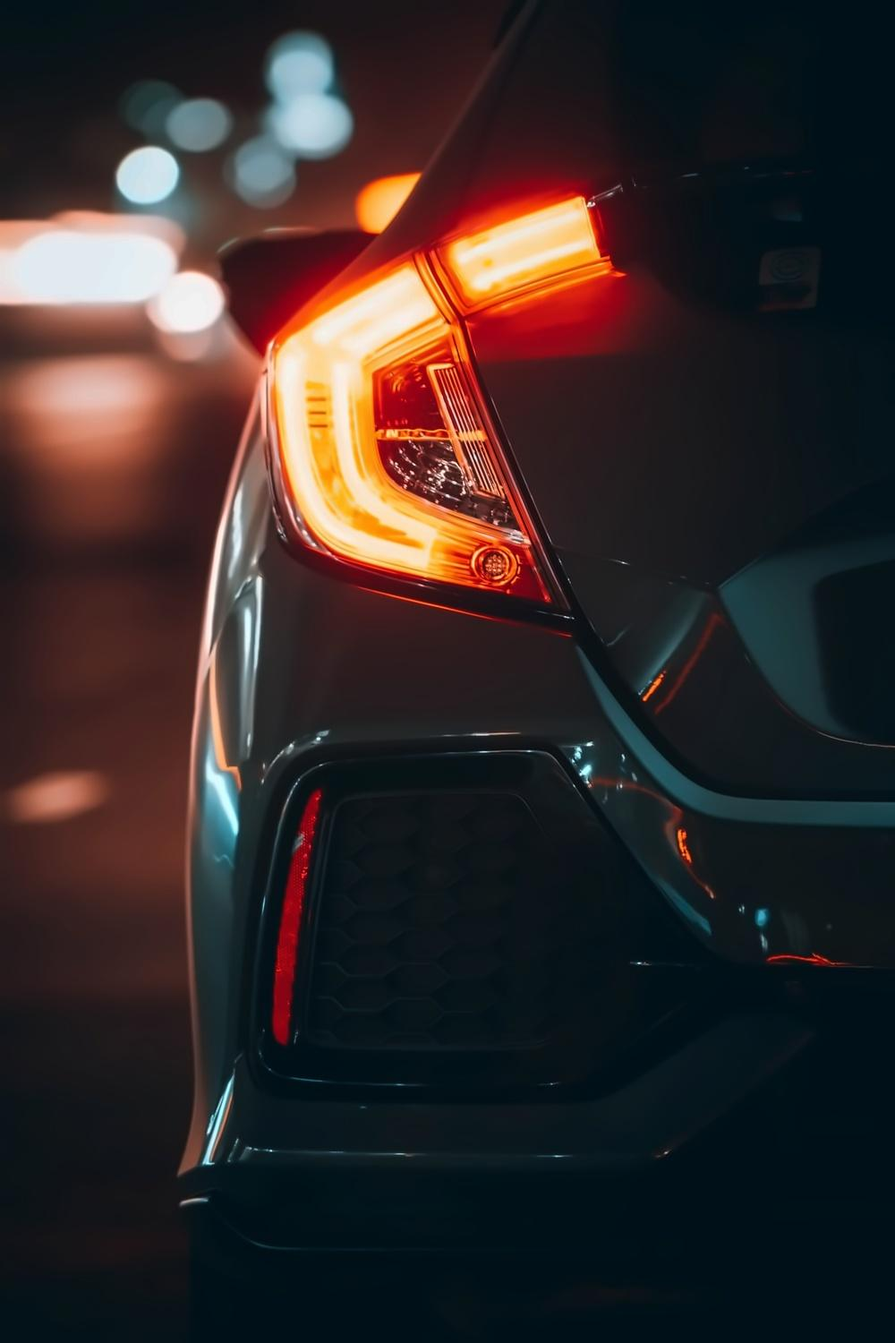Car boot: (376, 120, 895, 824)
Rear bumper: (120, 499, 895, 1343)
Rear light - -L-: (230, 159, 660, 640)
Side mirror - -L-: (188, 203, 397, 366)
